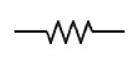resistor: (33, 11, 100, 56)
